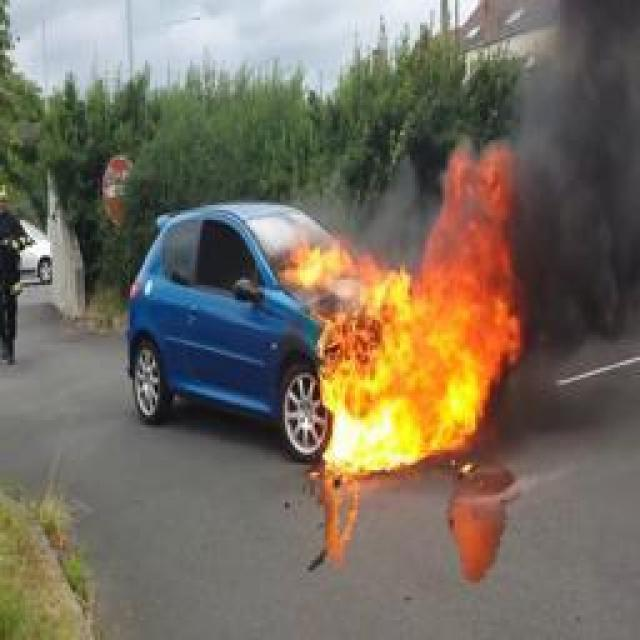Fire: (278, 142, 526, 476)
